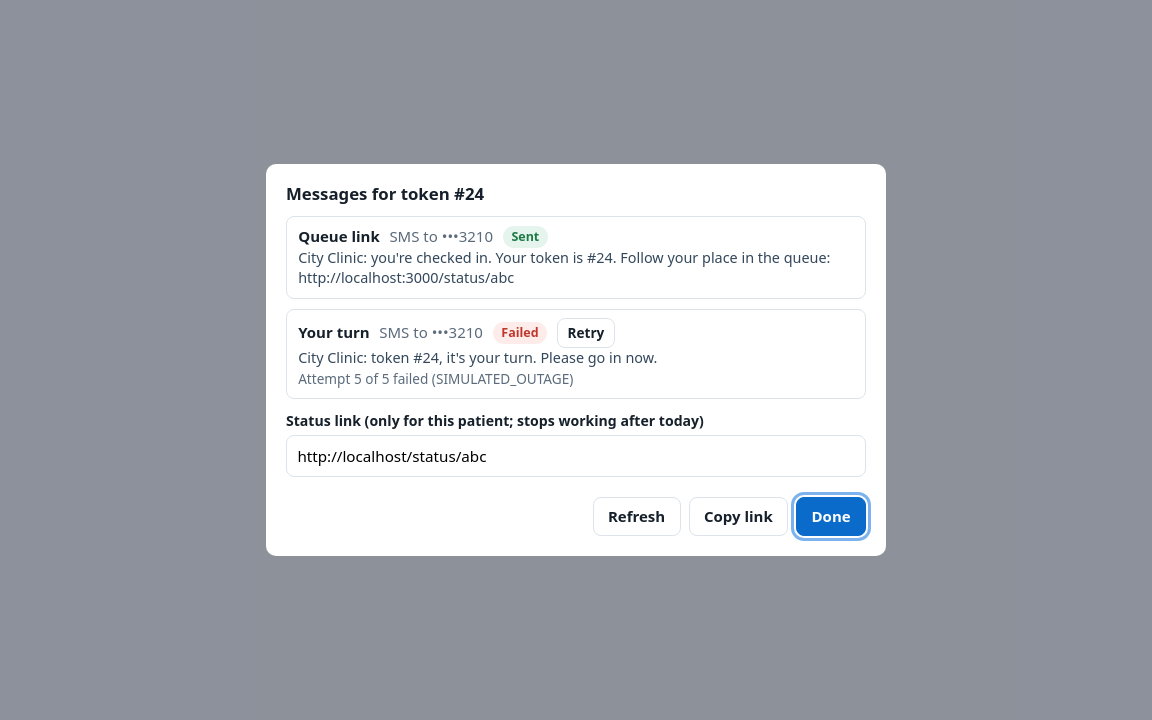
Scenario: StatusLinkDialog › explains a refused retry
Click the button "Retry" at (586, 333), box [557,318,615,348]
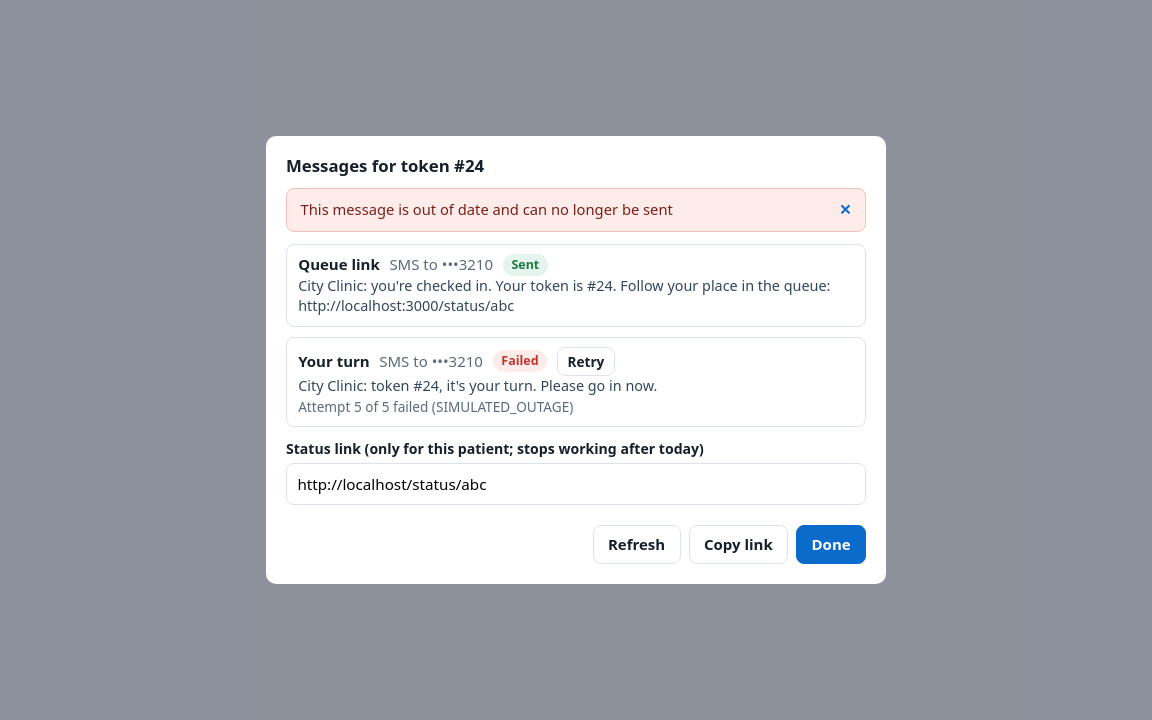
Now the message shows "This message is out of date and can no longer be sent", box [301,199,673,219]
